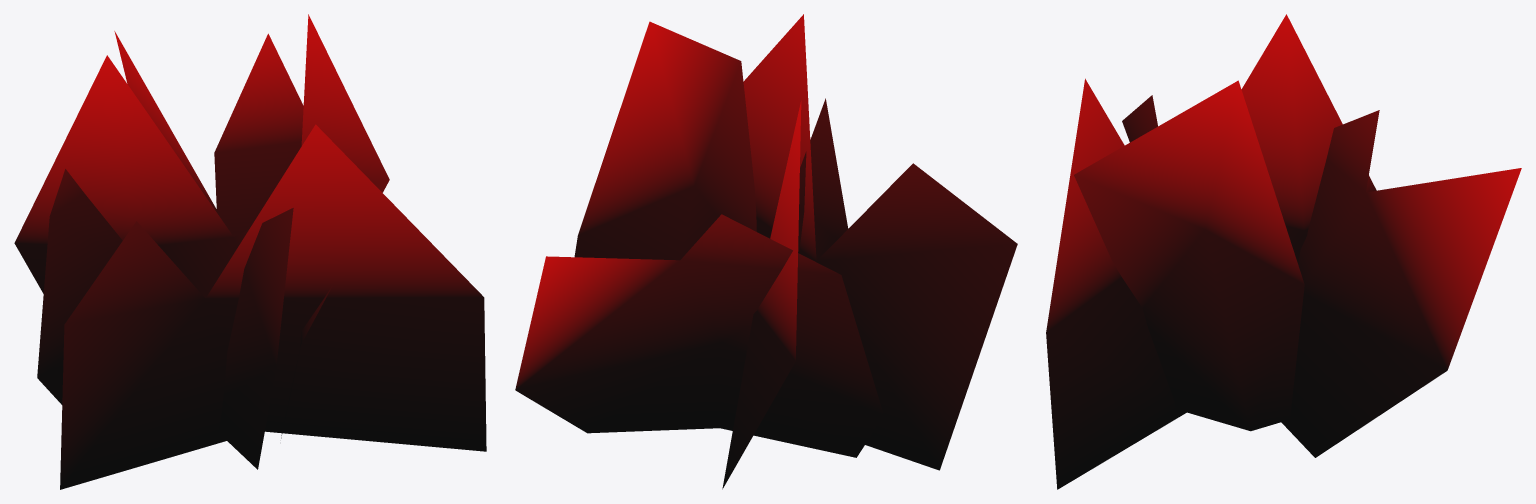
File: Jenny_1.fbx
The picture shows the model from 3 angles, left to right: view 1: azimuth 30°, elevation 25°; view 2: azimuth 150°, elevation 25°; view 3: azimuth 270°, elevation 25°; orthographic projection. The views are drawn at different scales.
Parts seen in each view (by area): view 1: Jenny_1; view 2: Jenny_1; view 3: Jenny_1.
Part boxes in pixels (x1,y1,x2,y2): Jenny_1: (14, 14, 486, 489); Jenny_1: (515, 14, 1017, 489); Jenny_1: (1046, 14, 1521, 489).
Size of the model in its own units: 65.15 by 63.47 by 72.47.
